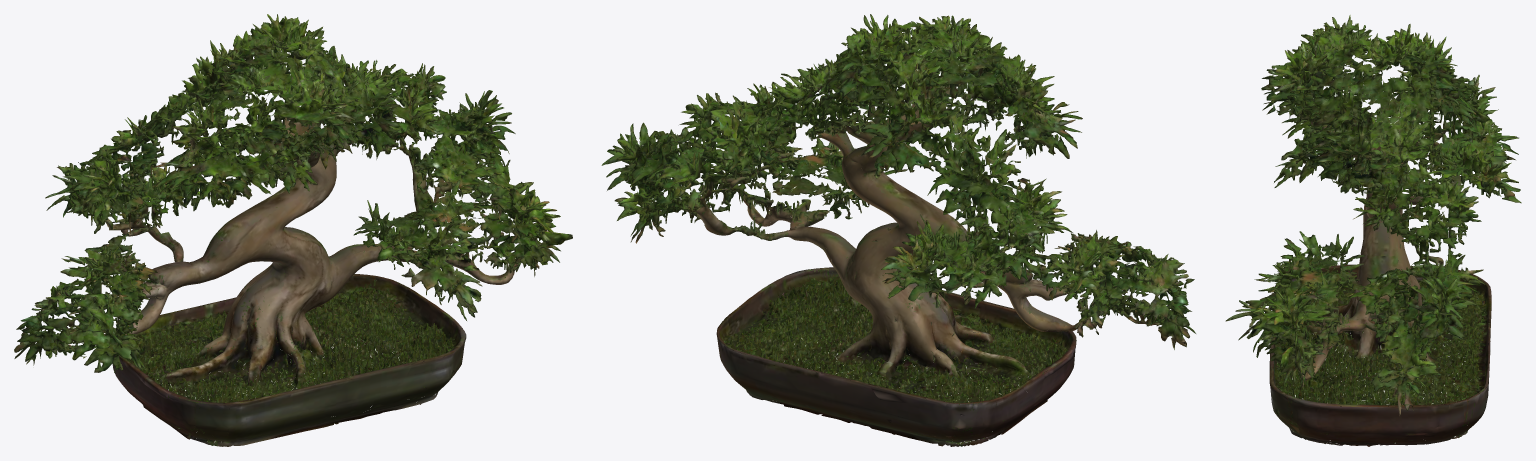
Rendered from bonsai.glb.
3 views of the same model, side by side, from view 1: azimuth 30°, elevation 25°; view 2: azimuth 150°, elevation 25°; view 3: azimuth 270°, elevation 25° (orthographic). The views are drawn at different scales.
Parts seen in each view (by area): view 1: Object_4; view 2: Object_4; view 3: Object_4.
Boxes of the visible parts, box(x1,y1,x2,y2) form: Object_4: box(14, 14, 572, 446); Object_4: box(601, 14, 1195, 446); Object_4: box(1225, 15, 1521, 446).
Size of the model in its own units: 1.93 by 1.26 by 0.9375.
1 material, 1 textured.
